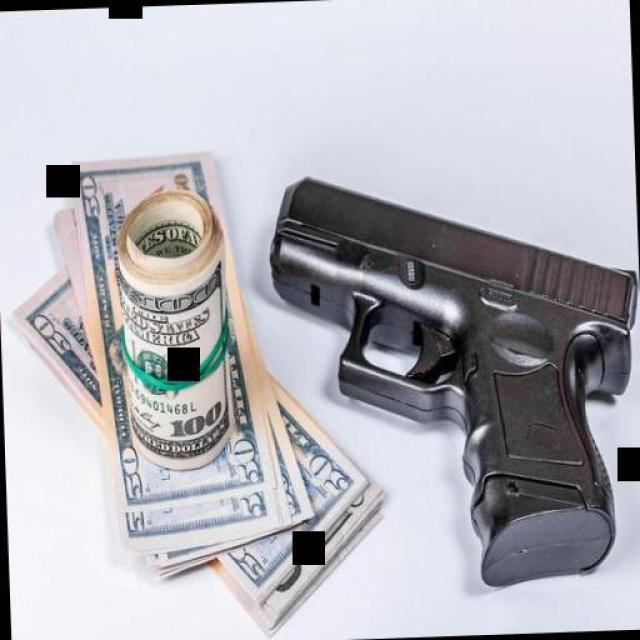gun: (262, 156, 640, 605)
